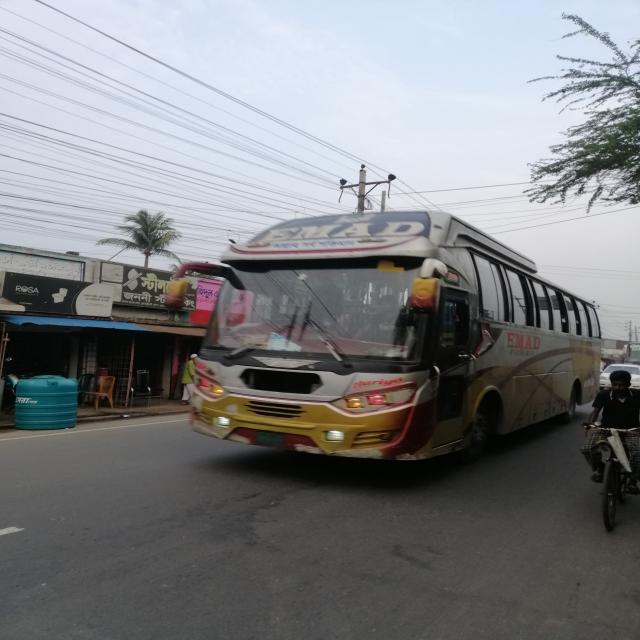Bicycle: (549, 395, 640, 538)
Bus: (149, 189, 624, 478)
